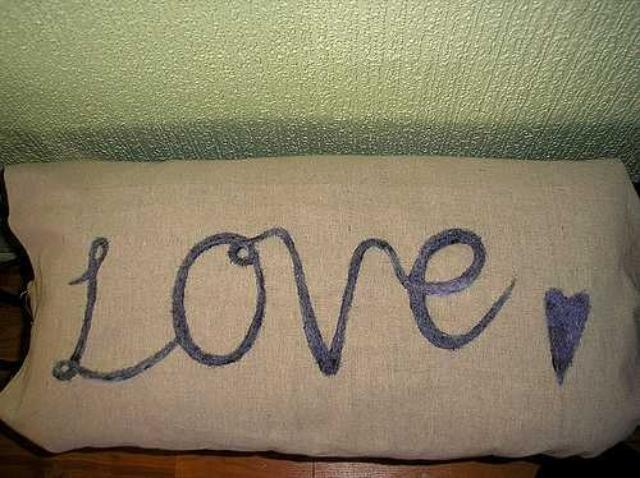pillow: (0, 154, 638, 462)
